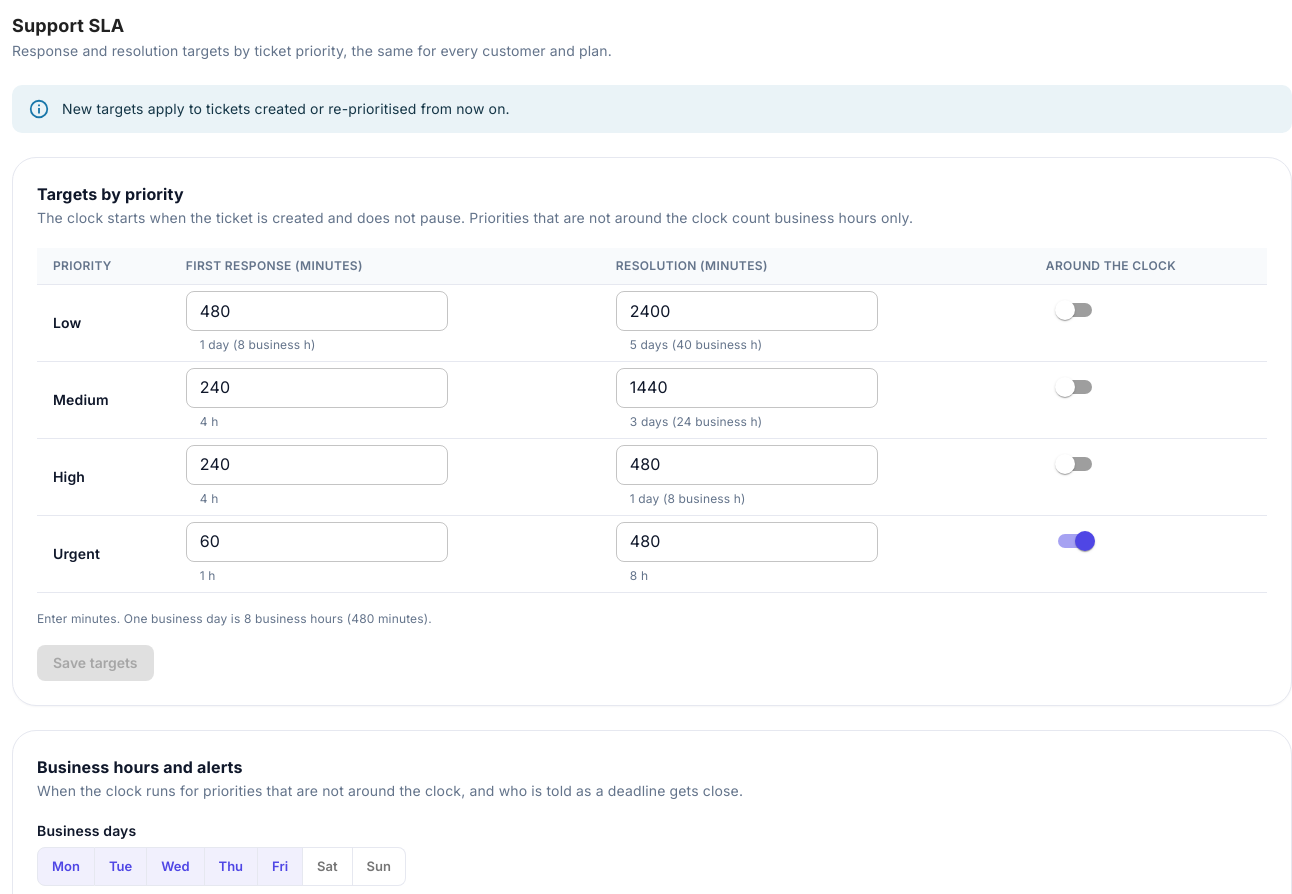
AdminSlaSettingsPage › saves the policies exactly as the backend expects
The image size is (1292, 894).
Expected: the button "Save targets" is disabled, [37,645,154,681]
Clear the number field named "Medium first response, minutes" at (317, 388), box [186,368,448,408]
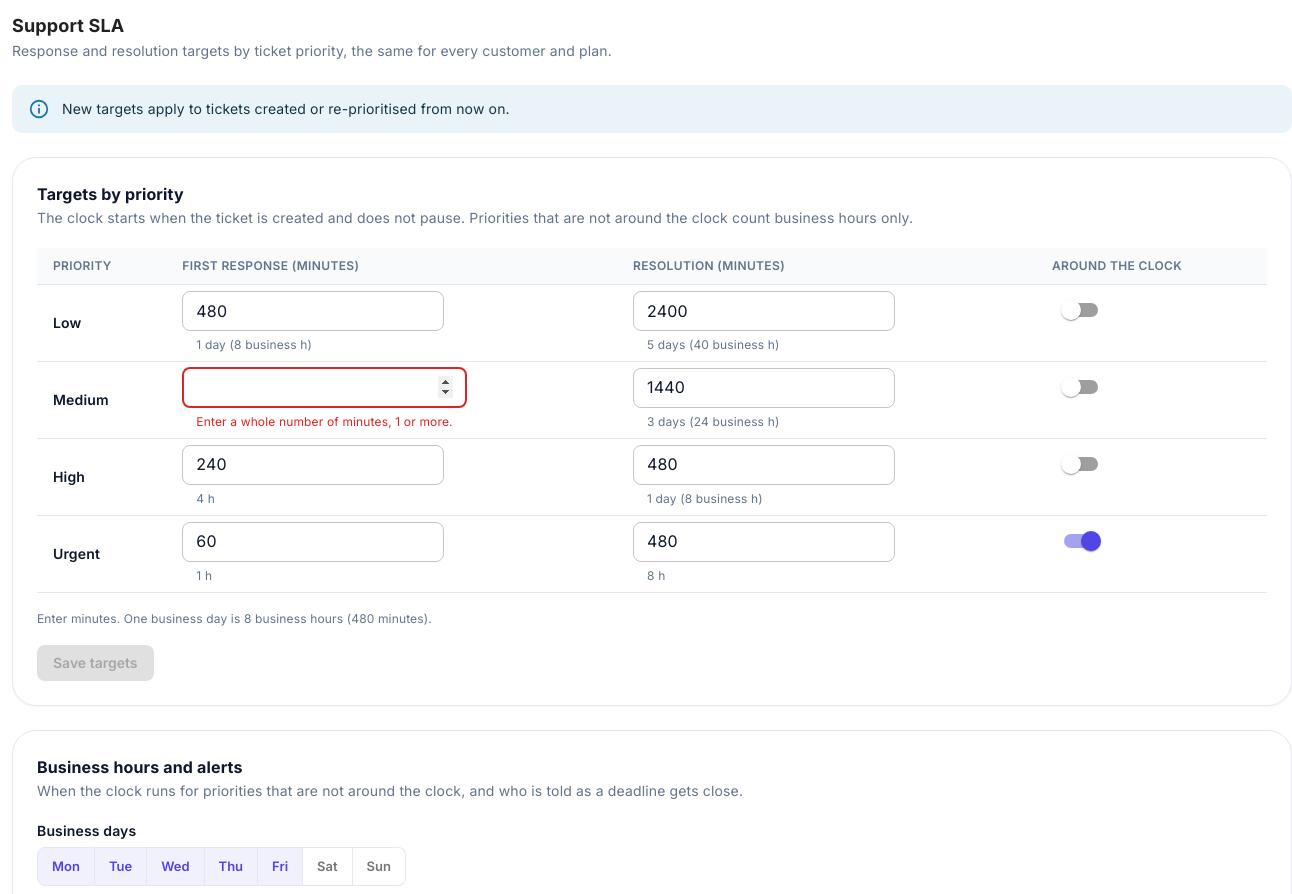
Type "120" into the number field named "Medium first response, minutes" at (324, 388), box [182,368,467,408]
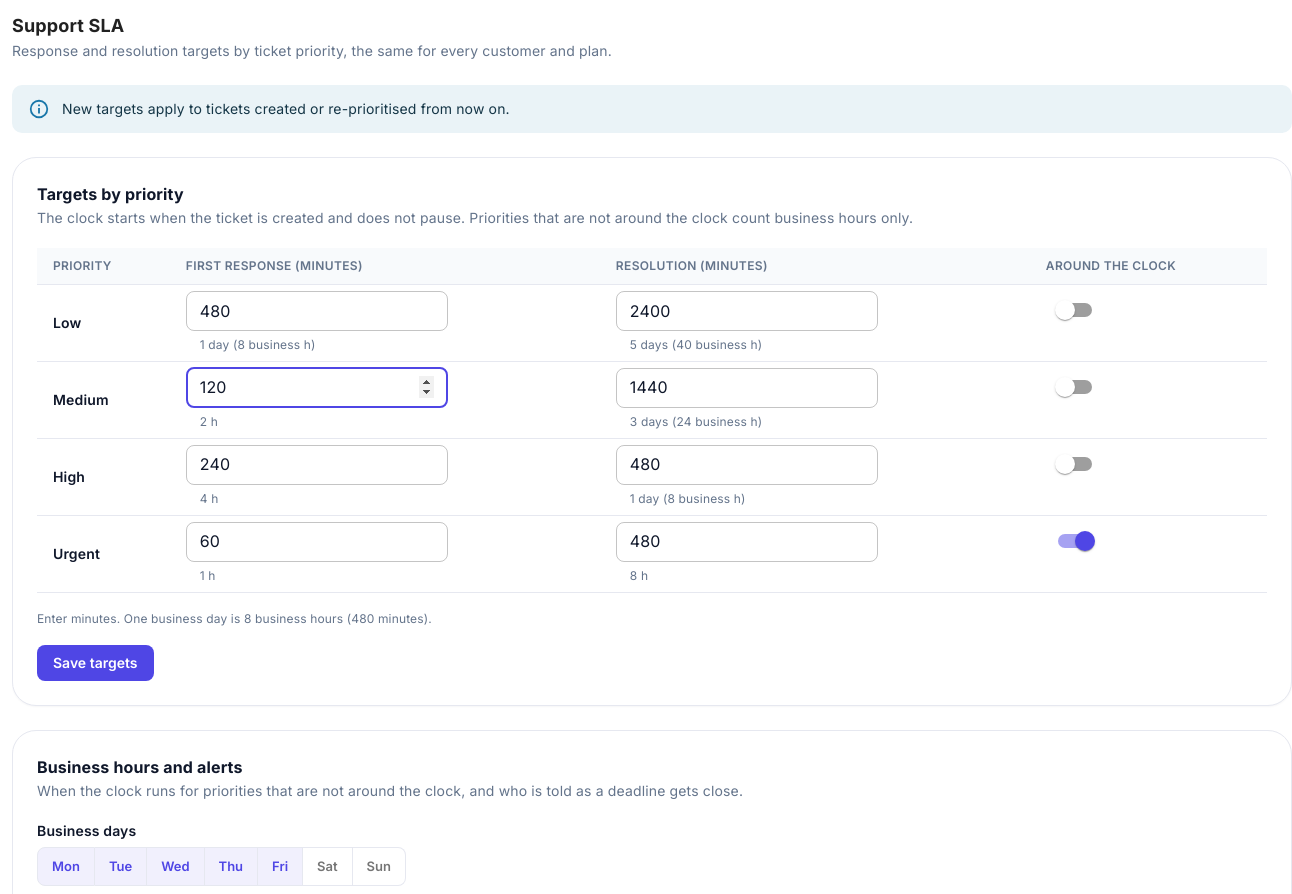
Click the switch named "Low around the clock" at (1065, 310), box [1055,300,1075,320]
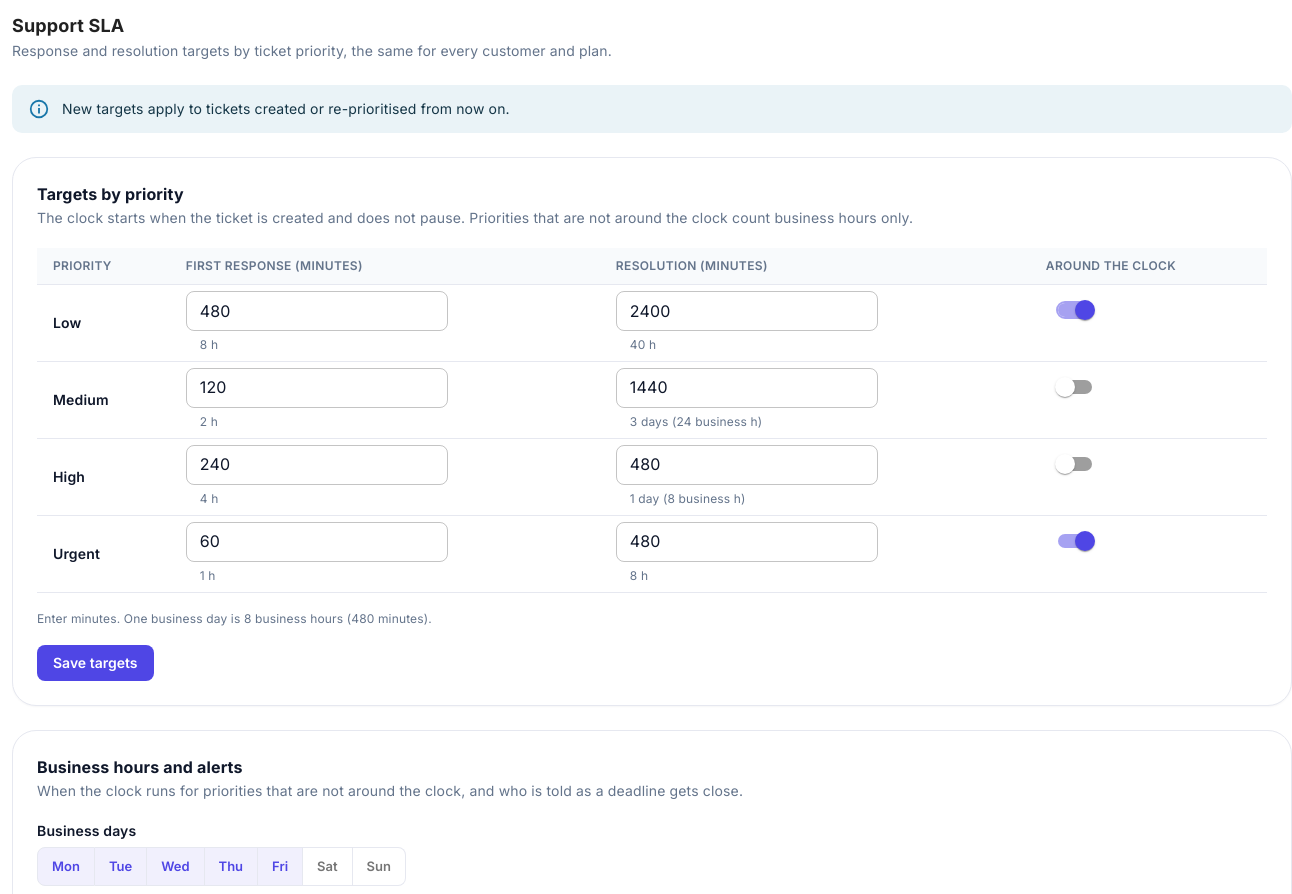
Click the button "Save targets" at (95, 663), box [37,645,154,681]
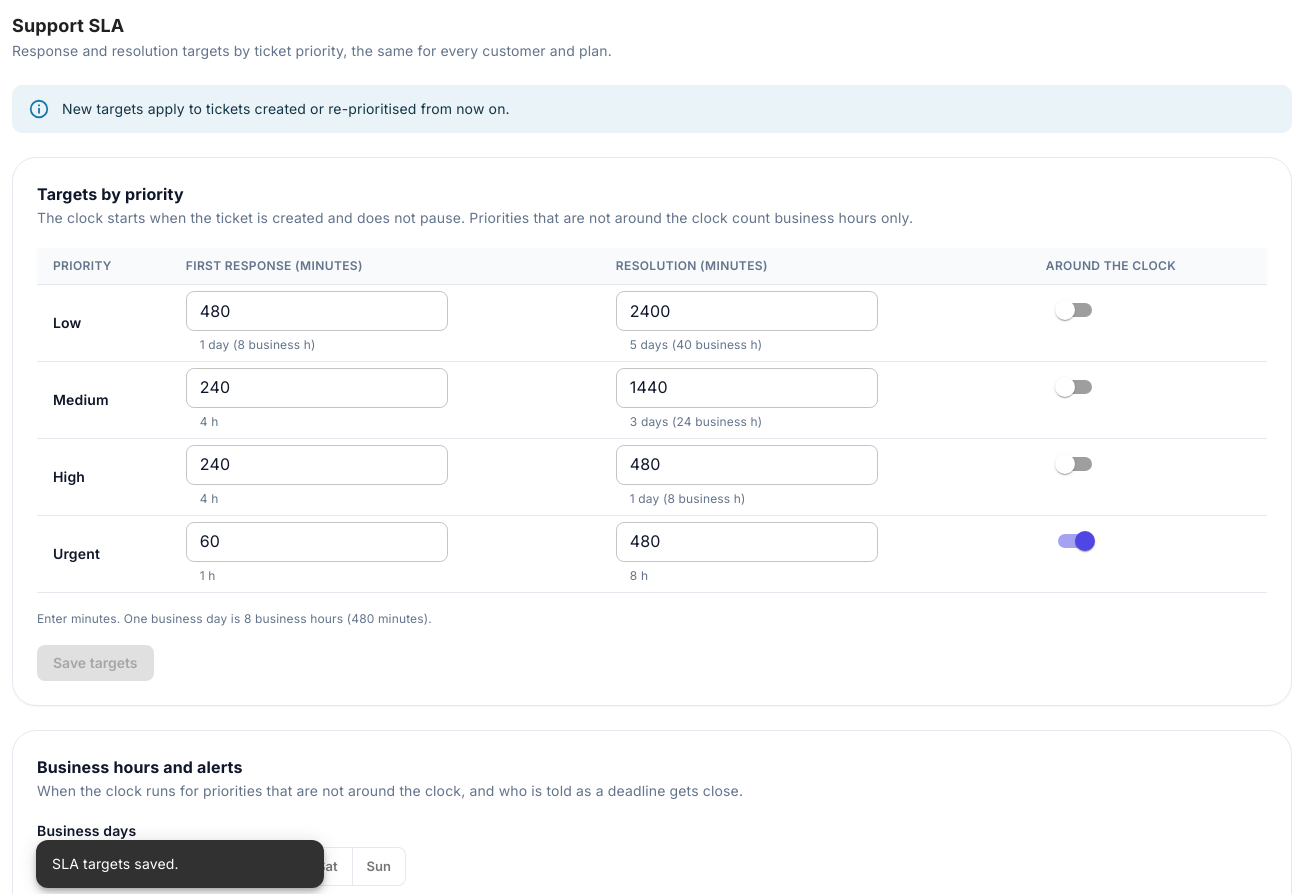
Now the text "SLA targets saved." is shown, box [52,855,179,872]
